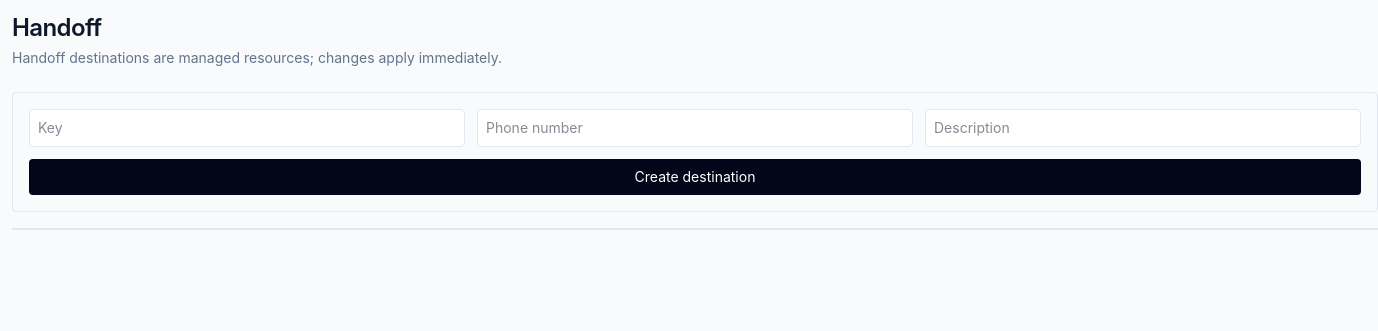
Test: Handoff page › shows a duplicate-key error and keeps the create form
The image size is (1378, 331).
Expected: the button "Create destination" is shown, [29,159,1361,195]
In the field labelled "Key": (247, 128) [29,109,465,147], type "sales"
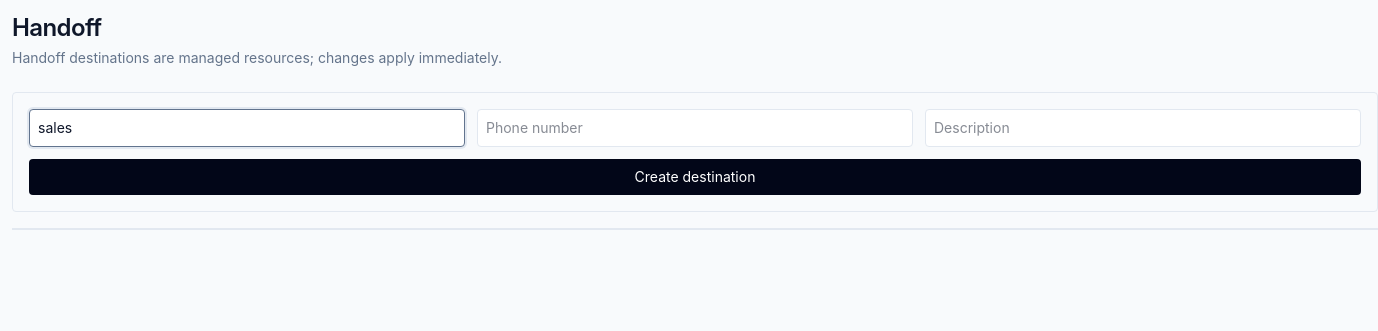
In the field labelled "Phone number": (695, 128) [477,109,913,147], type "+420123456789"
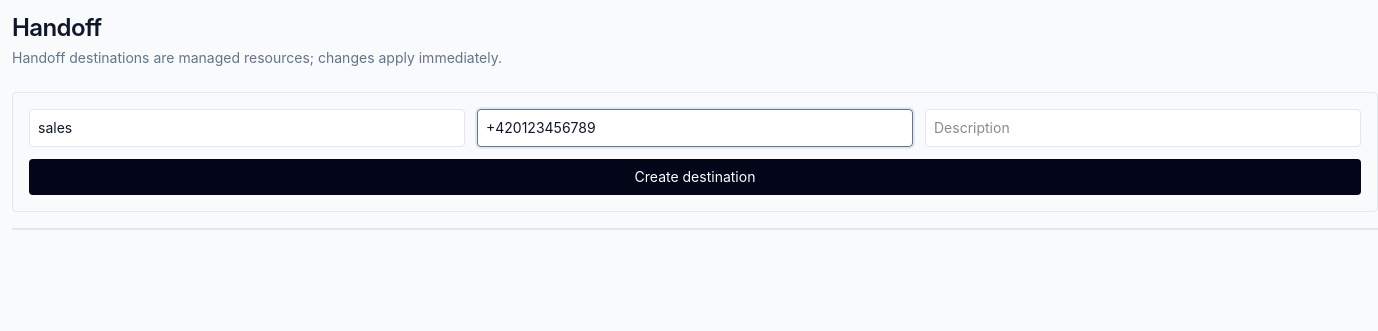
In the field labelled "Description": (1143, 128) [925,109,1361,147], type "Sales team"
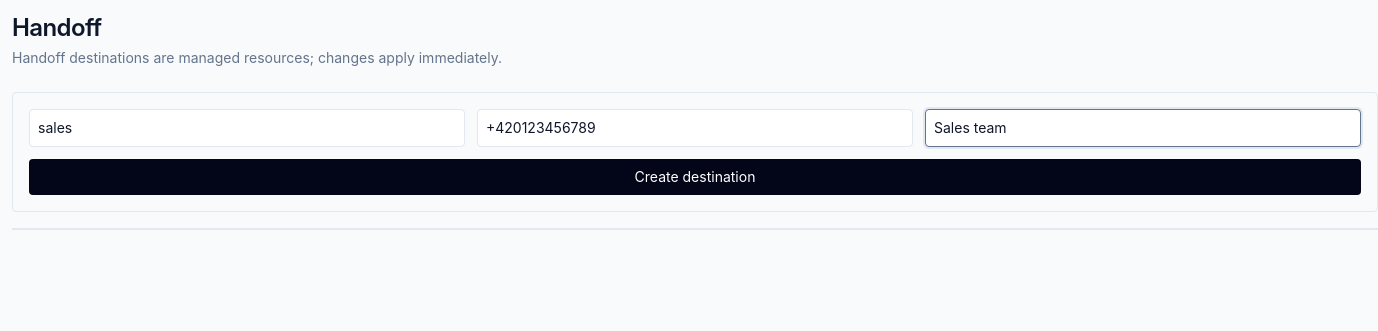
Click the button "Create destination": click(695, 177) [29,159,1361,195]
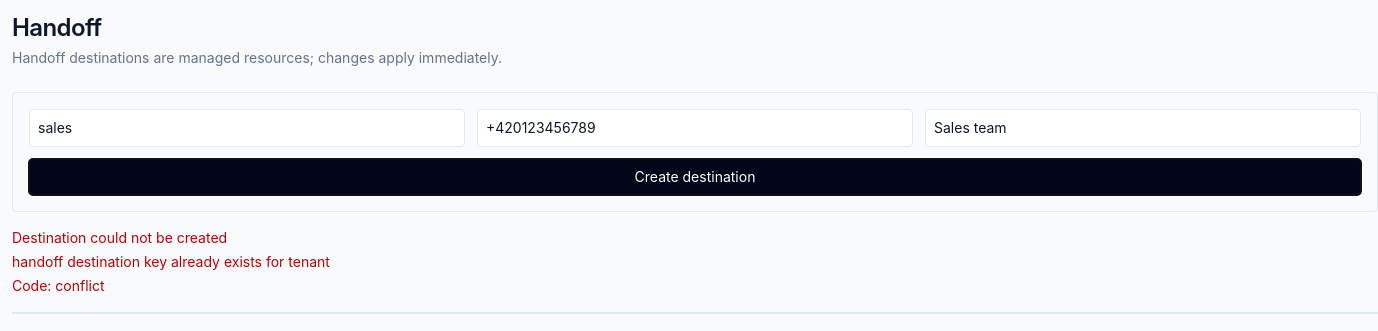
Result: the message shows "handoff destination key already exists for tenant" at [12,253,330,270]
